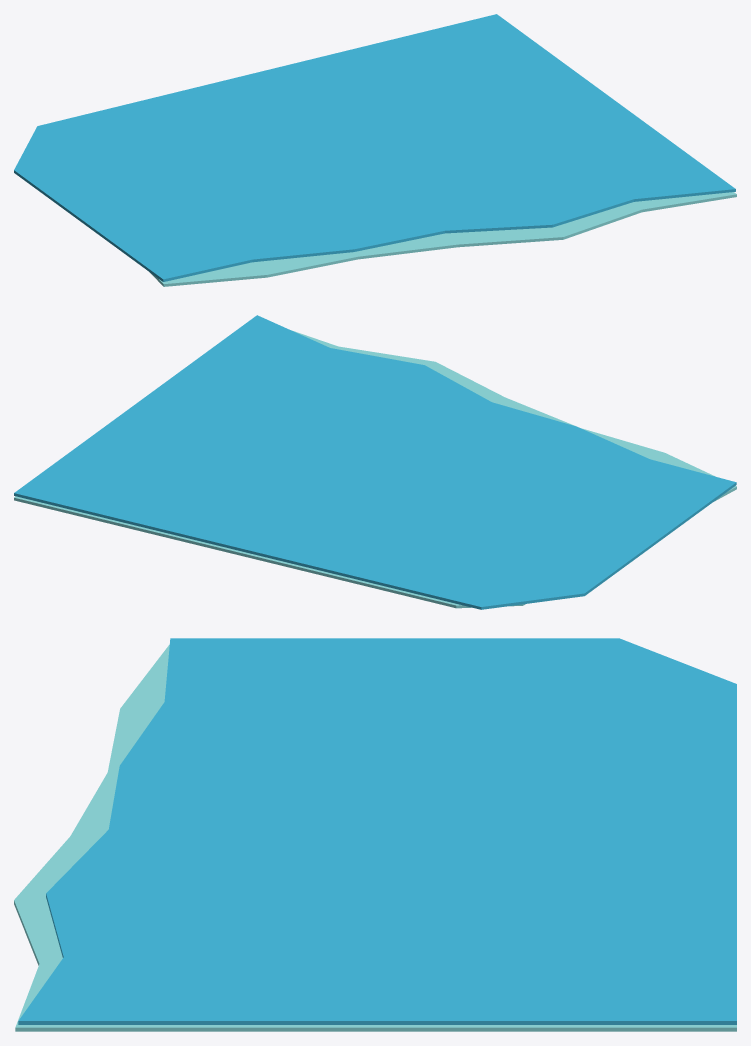
Rendered from ScrapPaper.fbx.
The picture shows the model from 3 angles, top to bottom: view 1: azimuth 30°, elevation 25°; view 2: azimuth 150°, elevation 25°; view 3: azimuth 270°, elevation 25°; orthographic projection. The views are drawn at different scales.
Visible parts, largest first — view 1: Plane, Plane.001; view 2: Plane, Plane.001; view 3: Plane, Plane.001.
Part boxes in pixels (x1,y1,x2,y2): Plane: (14, 14, 735, 281); Plane.001: (149, 192, 736, 286); Plane: (14, 315, 736, 609); Plane.001: (14, 330, 736, 608); Plane: (18, 638, 736, 1024); Plane.001: (14, 645, 736, 1031).
Size of the model in its own units: 200 by 2.64 by 160.
